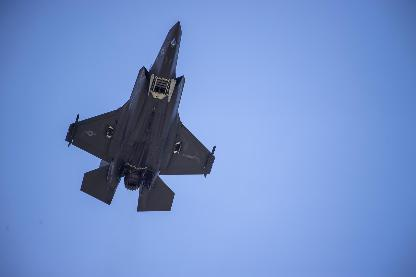F22: (65, 19, 216, 210)
